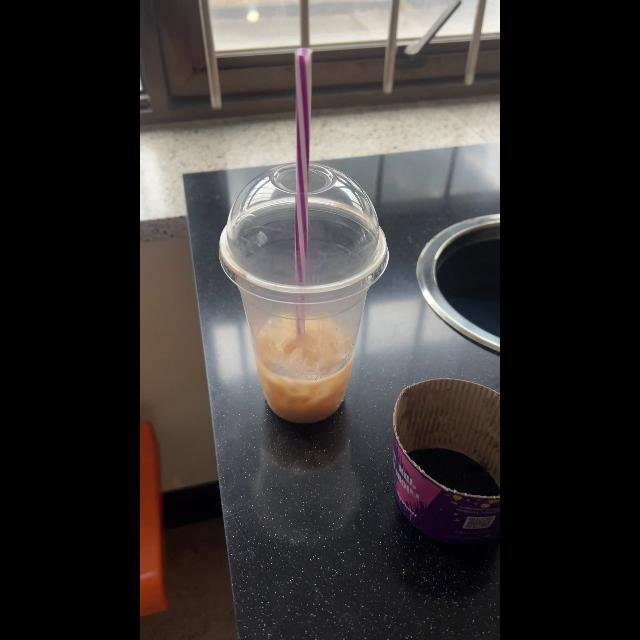dirty: (220, 165, 388, 417)
